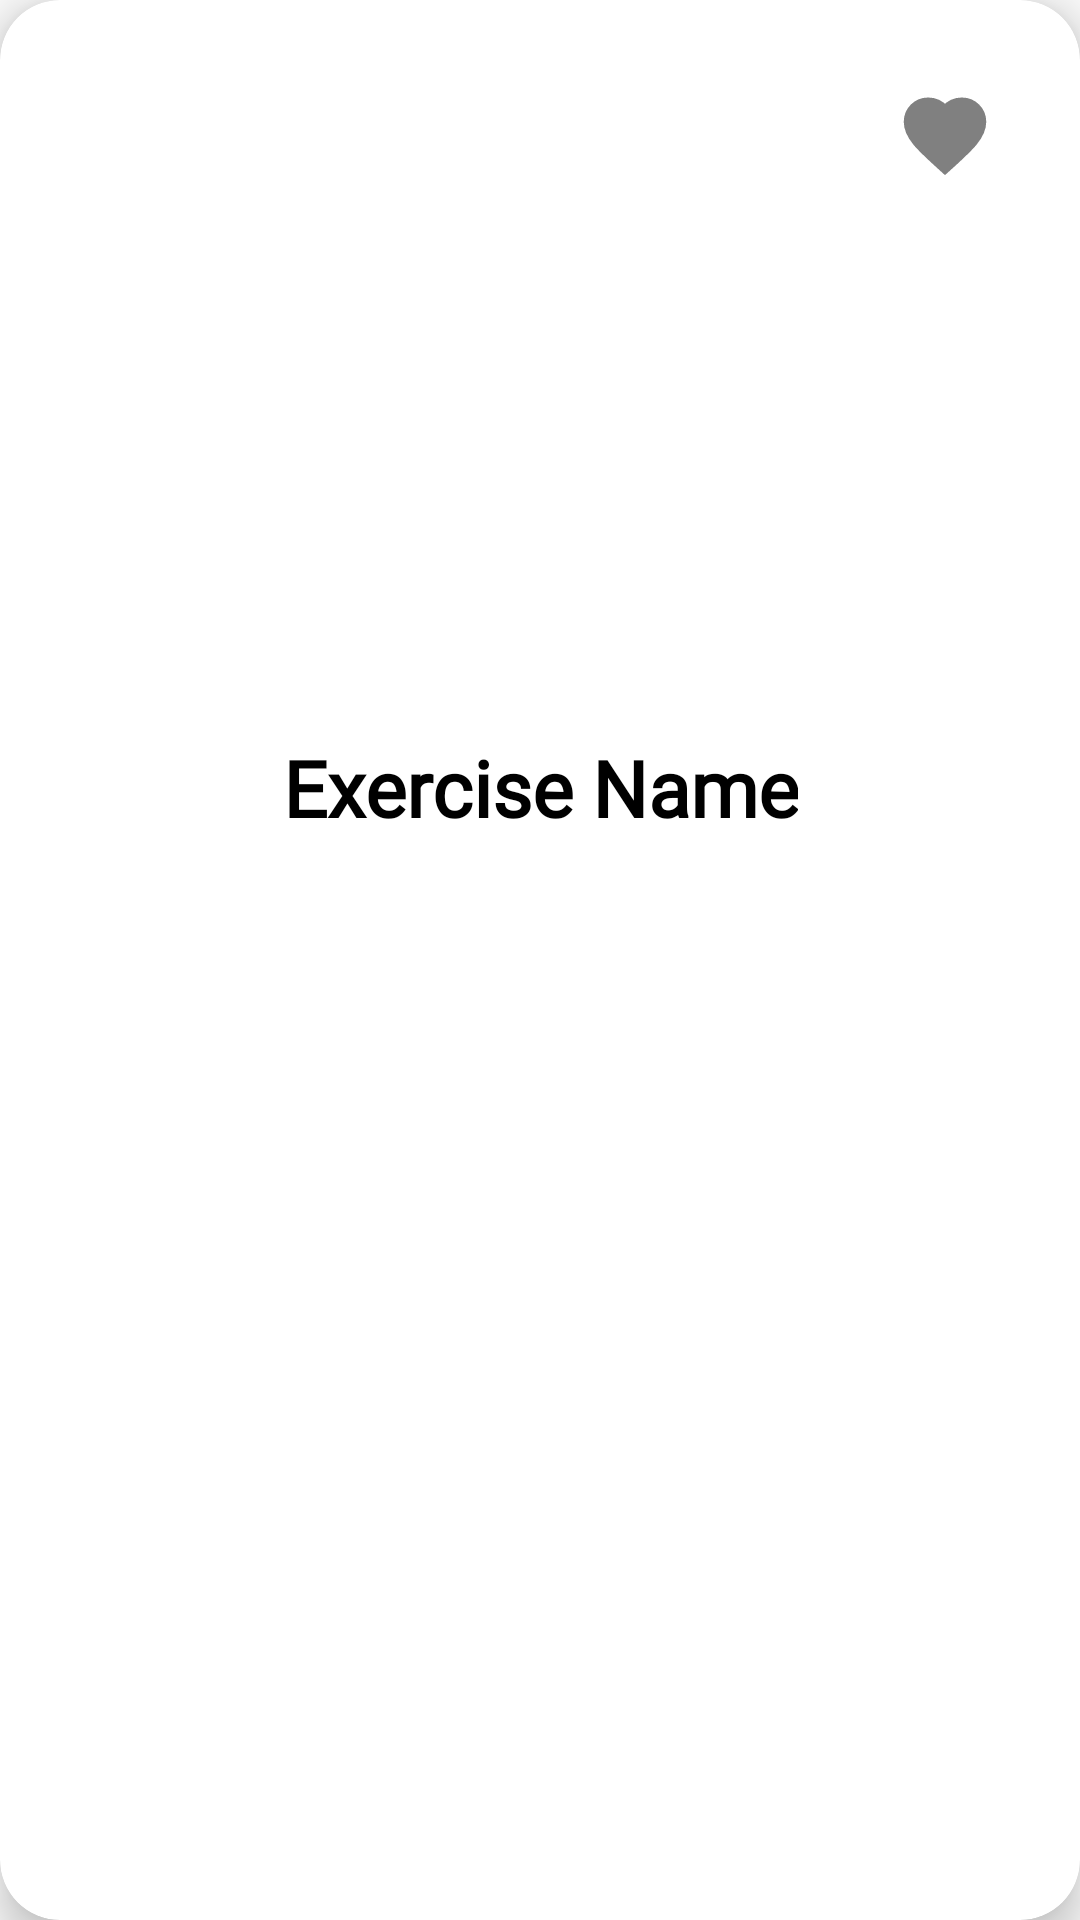

Where to tap for icons on this 1080 × 1920 app screen, as (x,y):
Favorite: (945,136)
